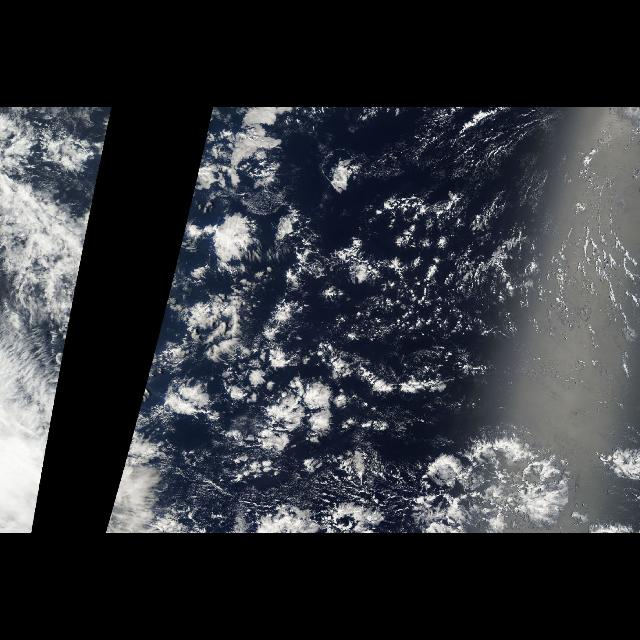Gravel: (246, 188, 516, 416)
